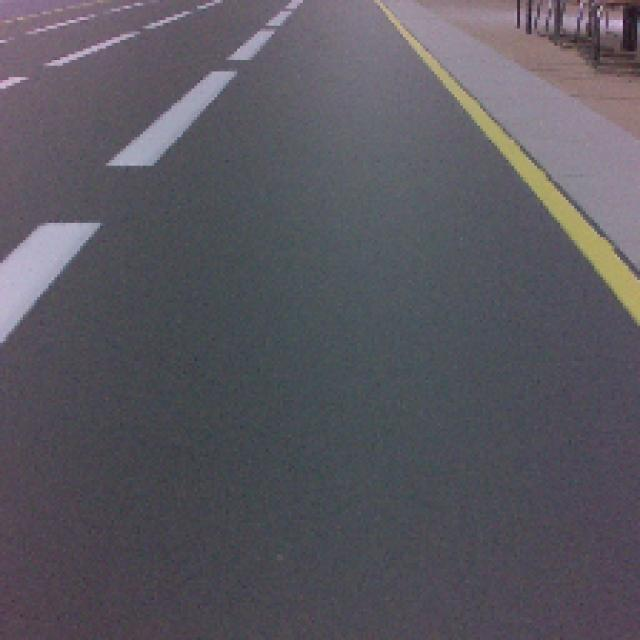Road: (0, 303, 640, 640)
